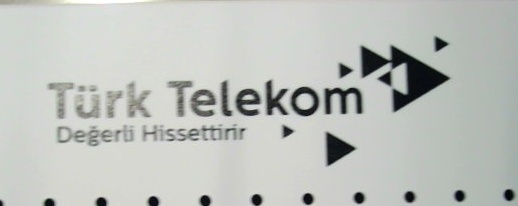AQ_TURKTelekom: (41, 31, 456, 166)
